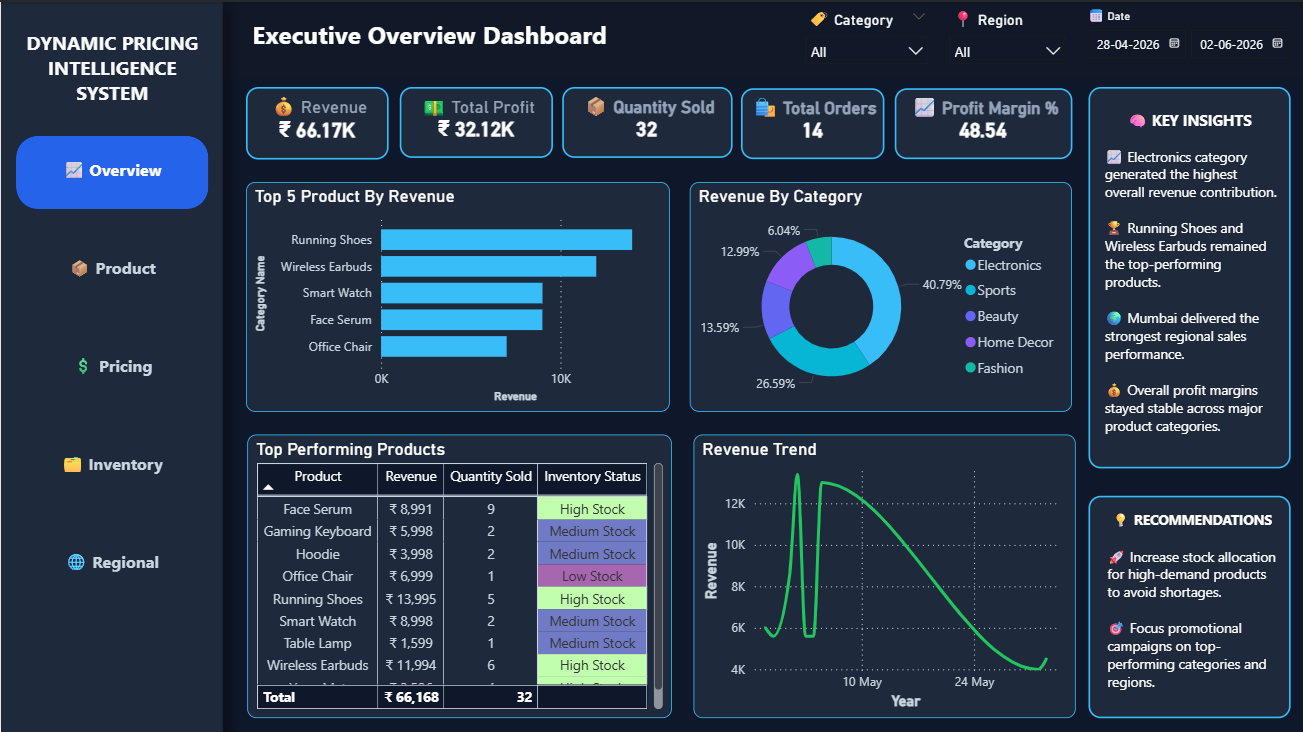

The dashboard page shown, as its layout file describes it:
{"tool":"powerbi","page":{"name":"📈 Overview","canvas":[1280,720],"ordinal":0},"visuals":[{"type":"textbox","box":[217.2,0,1062.6,75],"z":0},{"type":"textbox","box":[0,0,217.7,720.3],"z":1000},{"type":"textbox","box":[241.7,11,384.1,50.3],"z":2000},{"type":"textbox","box":[14.9,22.4,189.1,88.3],"z":3000},{"type":"slicer","fields":{"Values":["category.categoryName"]},"box":[779.1,0,141.1,72.4],"z":4000},{"type":"slicer","fields":{"Values":["sales.region"]},"box":[920.3,0,135,72.4],"z":5000},{"type":"slicer","fields":{"Values":["dates.Date"]},"box":[1054,0,225.8,72.4],"z":6000},{"type":"card","title":"💰 Revenue","fields":{"Values":["sales.Revenue"]},"box":[241.1,83.6,140,70.9],"z":7000},{"type":"card","title":"💵 Total Profit","fields":{"Values":["sales.Total Profit"]},"box":[391.6,83.6,150.5,69.7],"z":8000},{"type":"card","title":"📦 Quantity Sold","fields":{"Values":["sales.Total Quantity Sold"]},"box":[550.9,83.2,166.9,69.9],"z":9000},{"type":"card","title":"🛍️ Total Orders","fields":{"Values":["sales.Total Order"]},"box":[726.4,84.4,141.1,69.9],"z":10000},{"type":"card","title":"📈 Profit Margin %","fields":{"Values":["sales.Profit Margin%"]},"box":[877.3,84.4,174.2,69.9],"z":11000},{"type":"clusteredBarChart","title":"Top 5 Product By Revenue","fields":{"Y":["sales.Revenue"],"Category":["product.prodName"]},"box":[240.5,176.7,416,225.8],"z":12000},{"type":"lineChart","title":"Revenue Trend","fields":{"Y":["sales.Revenue"],"Category":["dates.Date.Variation.Date Hierarchy.Year","dates.Date.Variation.Date Hierarchy.Quarter","dates.Date.Variation.Date Hierarchy.Month","dates.Date.Variation.Date Hierarchy.Day"]},"box":[679.8,424.5,375.5,278.5],"z":13000},{"type":"donutChart","title":"Revenue By Category","fields":{"Category":["category.categoryName"],"Y":["sales.Revenue"]},"box":[676.1,176.7,375.5,225.8],"z":14000},{"type":"tableEx","title":"Top Performing Products","fields":{"Values":["product.prodName","sales.Revenue","Sum(sales.quantitySold)","product.InventoryStatus"]},"box":[241.7,424.5,417.2,278.5],"z":15000},{"type":"pageNavigator","box":[14.9,131.9,189.1,456.5],"z":16000},{"type":"textbox","box":[1067.5,83.4,198.8,374.2],"z":17000},{"type":"textbox","box":[1067.5,484.7,198.8,218.4],"z":18000},{"type":"textbox","box":[1100.6,100.6,137.4,30.7],"z":19000},{"type":"textbox","box":[1078.5,137.4,181.6,312.9],"z":20000},{"type":"textbox","box":[1081,494.5,175.5,35.6],"z":21000},{"type":"textbox","box":[1081,530.1,181.6,157.1],"z":22000}]}

Visuals, with their boxes in screenshot pixels (x1, y1, x2, y2), scaled from the page's 1280x720 canvas onto the 1303x732 screenshot:
textbox: 221,0,1302,76
textbox: 0,0,222,731
textbox: 246,11,637,62
textbox: 15,23,208,113
slicer - category.categoryName: 793,0,937,74
slicer - sales.region: 937,0,1074,74
slicer - dates.Date: 1073,0,1302,74
"💰 Revenue" card: 245,85,388,157
"💵 Total Profit" card: 399,85,552,156
"📦 Quantity Sold" card: 561,85,731,156
"🛍️ Total Orders" card: 739,86,883,157
"📈 Profit Margin %" card: 893,86,1070,157
"Top 5 Product By Revenue" clusteredBarChart: 245,180,668,409
"Revenue Trend" lineChart: 692,432,1074,715
"Revenue By Category" donutChart: 688,180,1070,409
"Top Performing Products" tableEx: 246,432,671,715
pageNavigator: 15,134,208,598
textbox: 1087,85,1289,465
textbox: 1087,493,1289,715
textbox: 1120,102,1260,133
textbox: 1098,140,1283,458
textbox: 1100,503,1279,539
textbox: 1100,539,1285,699
